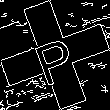P_N: (29, 25, 81, 85)
